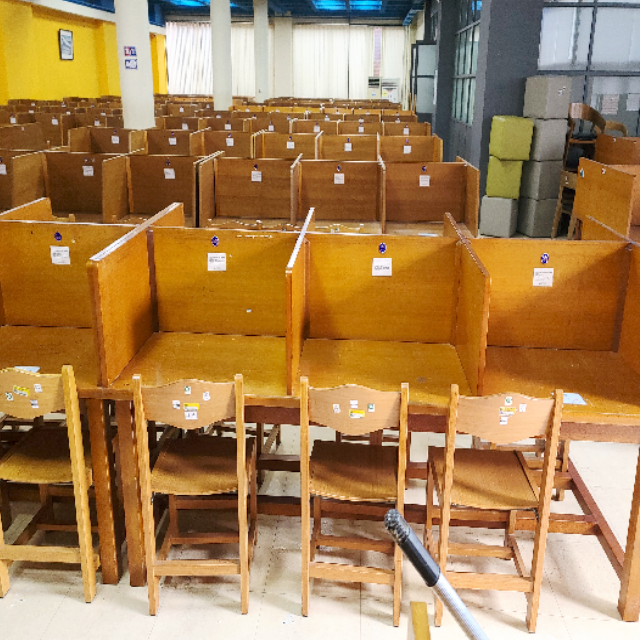empty: (295, 205, 484, 507), (99, 209, 290, 480), (495, 202, 640, 503)
